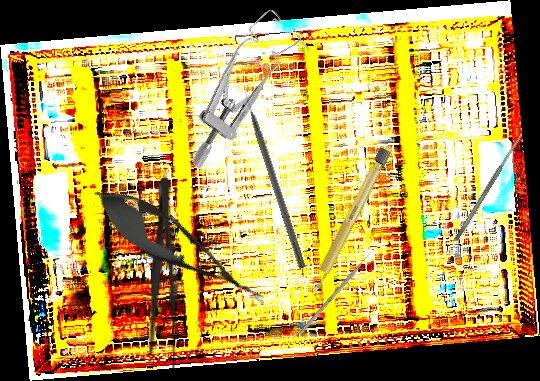Dressing Forceps: (147, 178, 180, 370)
Hook Surgical: (239, 84, 308, 270)
Micro Scissor: (80, 173, 277, 321)
Pusher: (298, 246, 377, 336)
Scalpel Handle: (307, 146, 392, 295)
Spatula Surgical: (453, 131, 525, 243)
Speculum: (151, 6, 321, 171)
